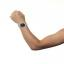watch: (17, 21, 29, 30)
